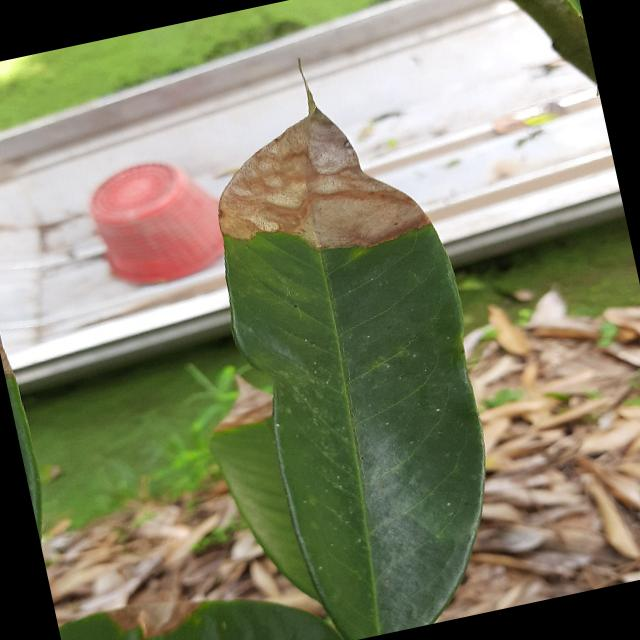Leaf Blight: (176, 69, 532, 639)
